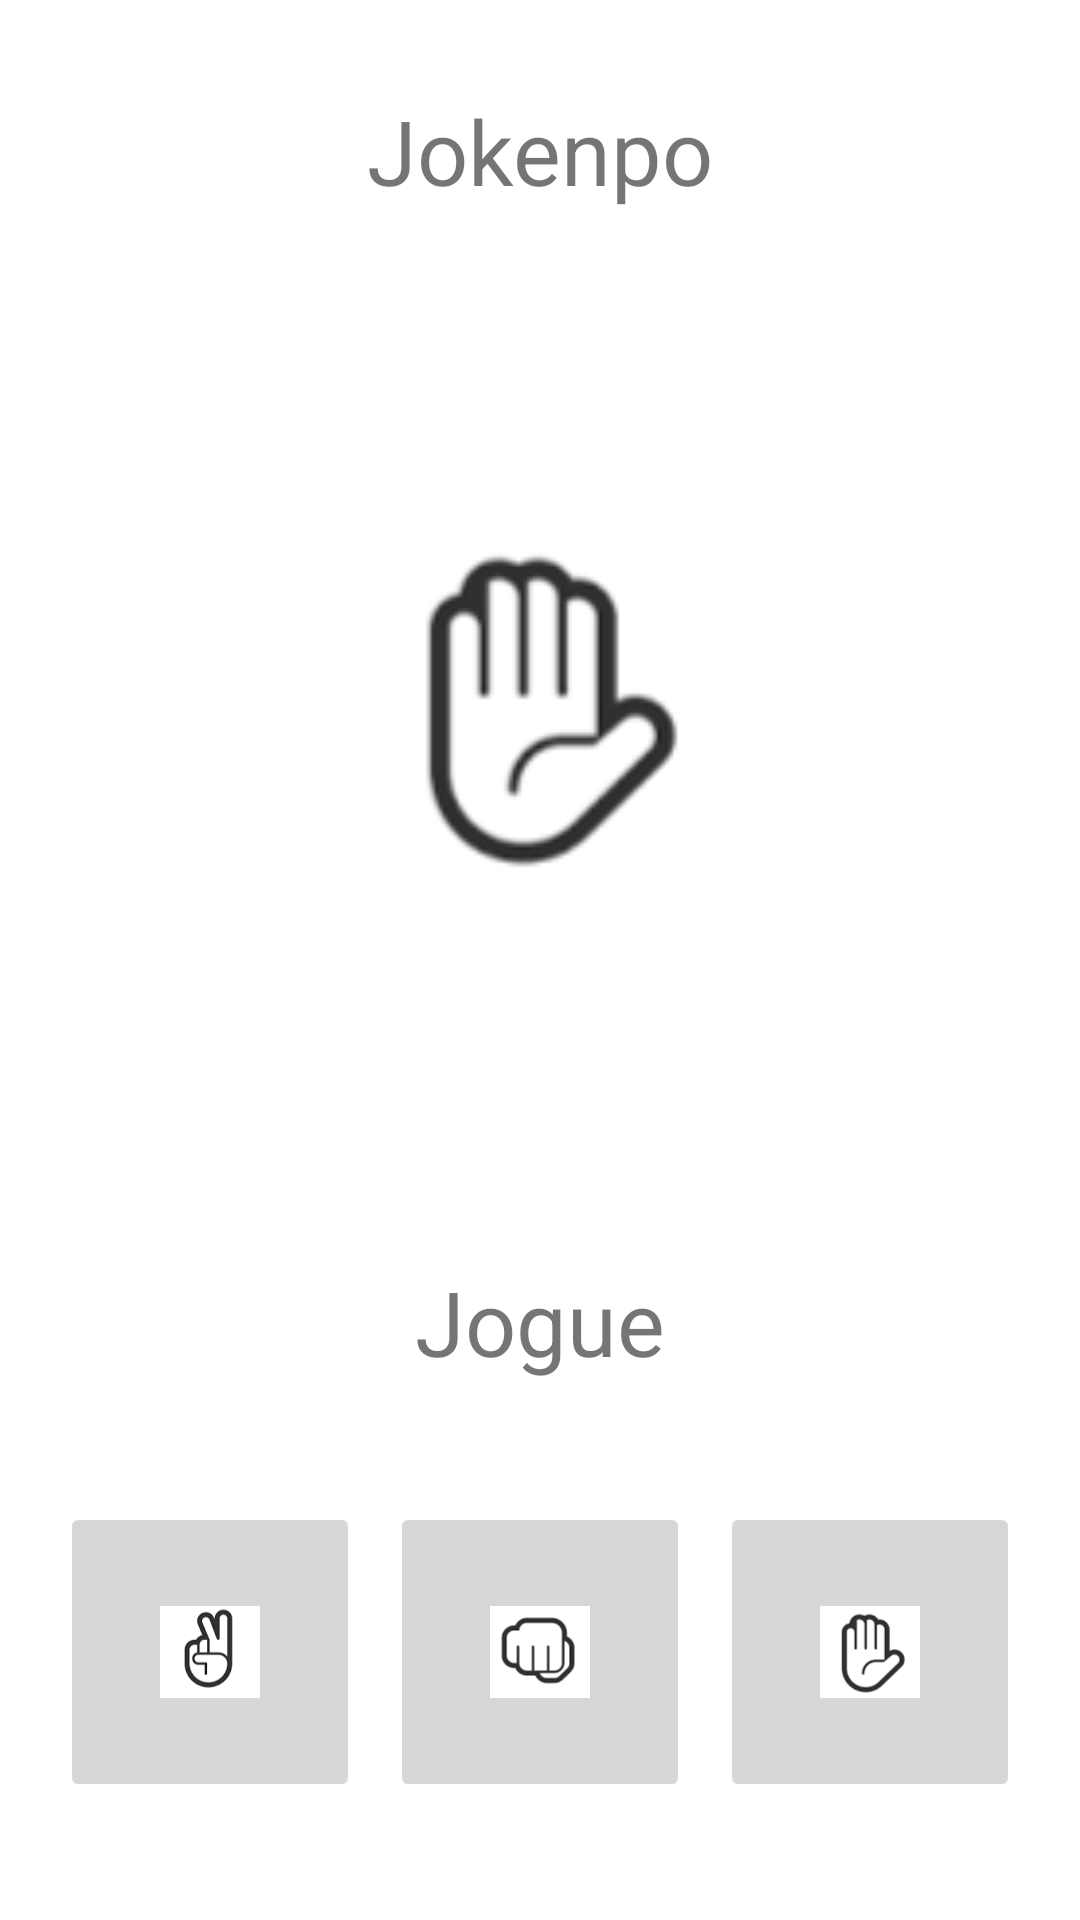

Icon click points for this 1080px×1920px phone screenshot, format point (x, y):
papel: point (552, 711), point (870, 1652)
pedra: point (540, 1652)
tesoura: point (210, 1652)
